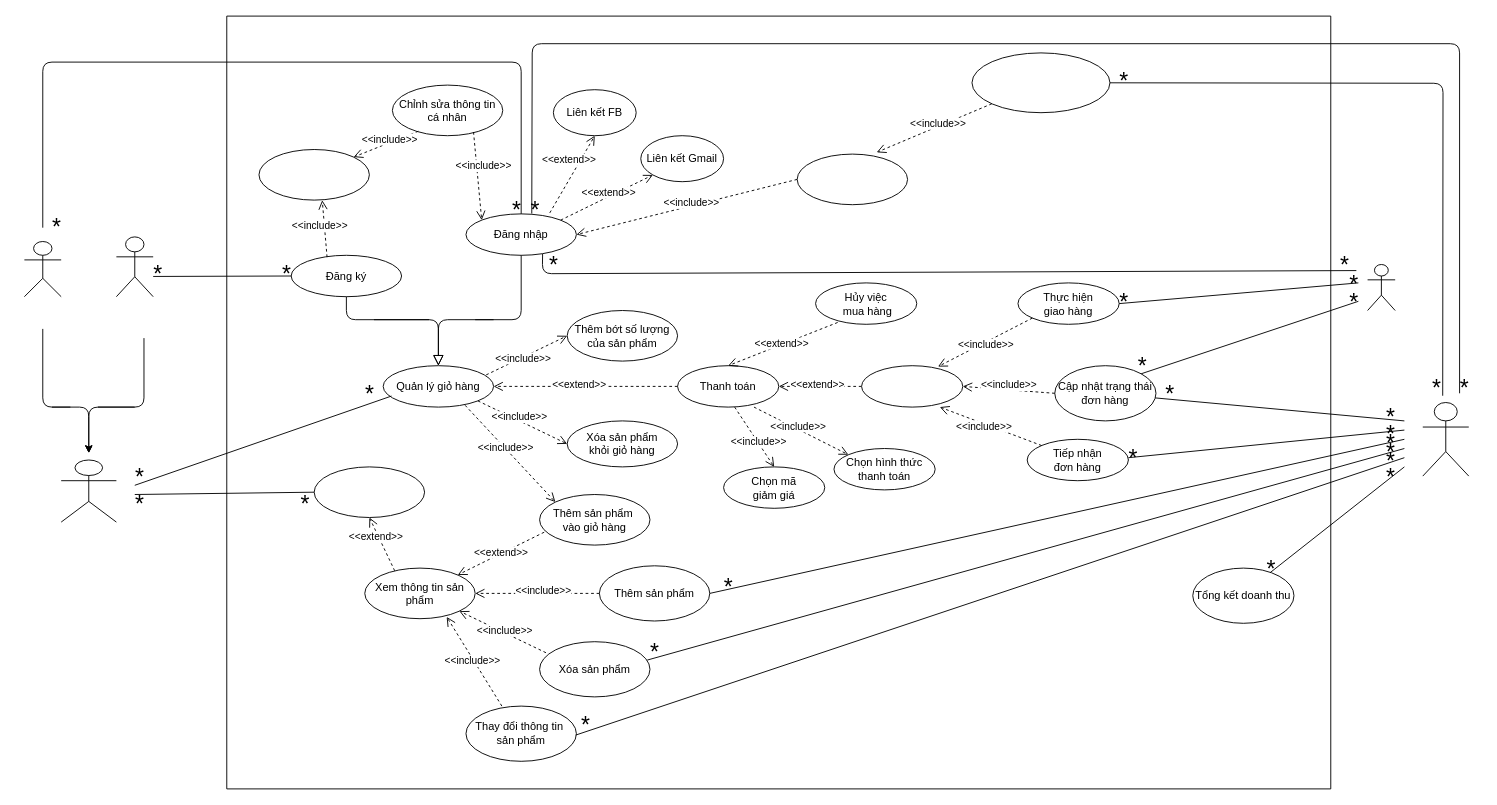
This 1497x805 diagram has some shape labels left out. The centre of each missing label's shape, as x and y in pixels:
"Chưa là thành viên" belongs at point 134,266.
"Người dùng" belongs at point 88,490.
"Người quản lý" belongs at point 1445,439.
"Nhân viên giao hàng" belongs at point 1381,287.
"Nhập thông tin cá nhân" belongs at point 313,174.
"Quản lý thông tin khách hàng" belongs at point 1040,82.
"Thành viên" belongs at point 42,269.
"Thông tin đơn hàng" belongs at point 912,386.
"Tìm kiếm sản phẩm" belongs at point 369,492.
"Xem thông tin cá nhân" belongs at point 852,179.
